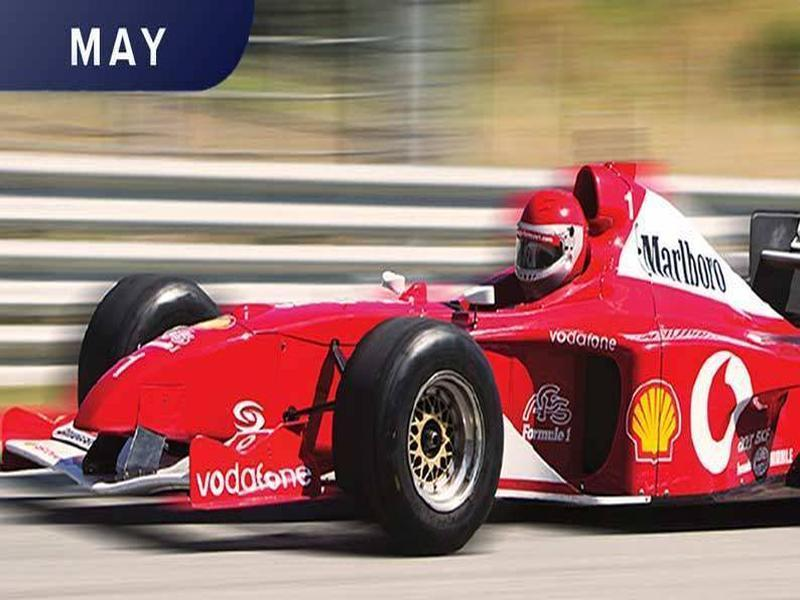f1: (46, 153, 800, 546)
